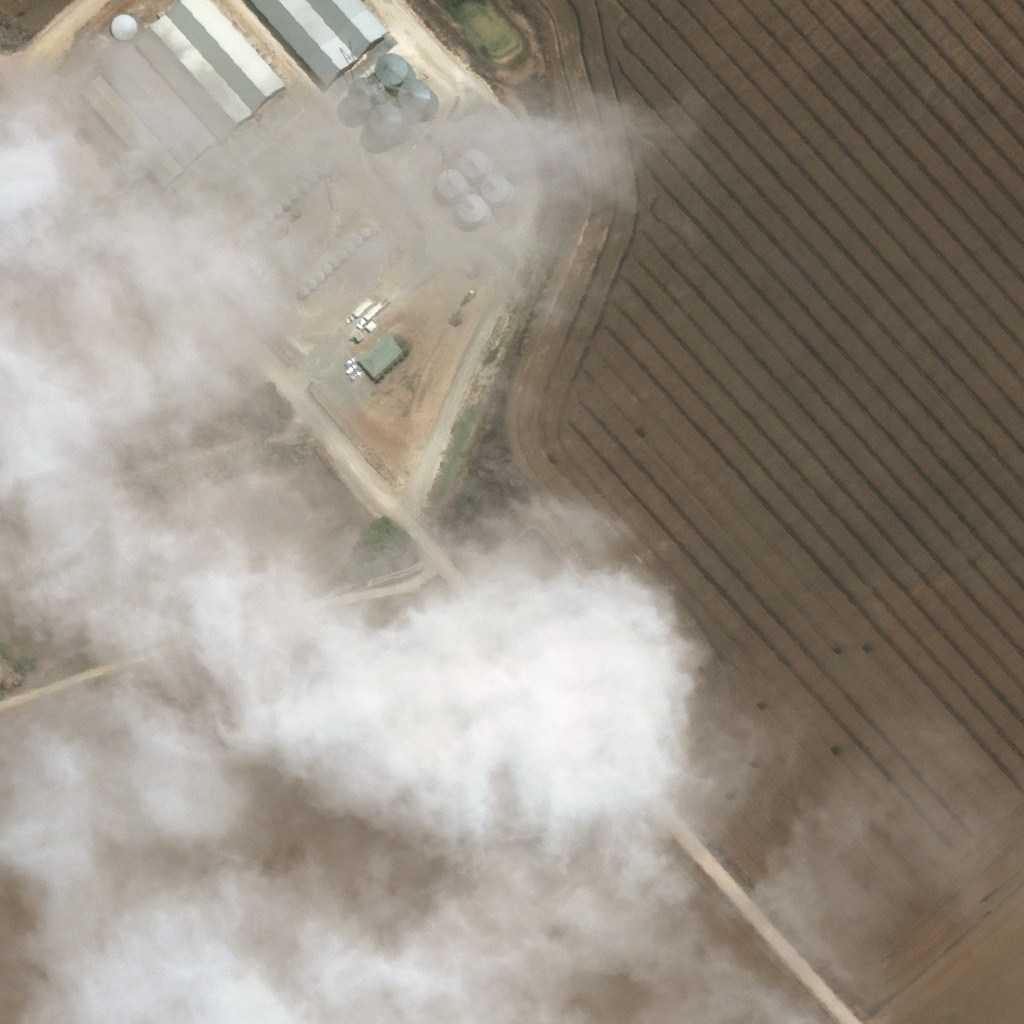0 no-damage: (134, 10, 255, 139), (101, 40, 218, 165), (166, 0, 287, 111), (81, 73, 187, 185), (252, 0, 388, 83), (353, 44, 439, 146), (236, 160, 328, 248), (298, 225, 372, 297), (437, 165, 492, 226), (355, 334, 404, 379), (483, 168, 513, 208), (460, 145, 491, 182), (110, 13, 139, 41), (364, 320, 376, 332), (353, 331, 364, 342)
4 un-classified: (240, 248, 272, 289), (352, 297, 372, 318)
